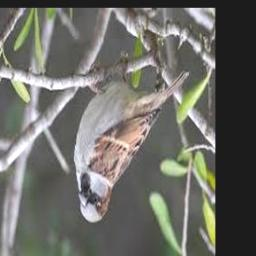Sparrow: (73, 69, 189, 223)
